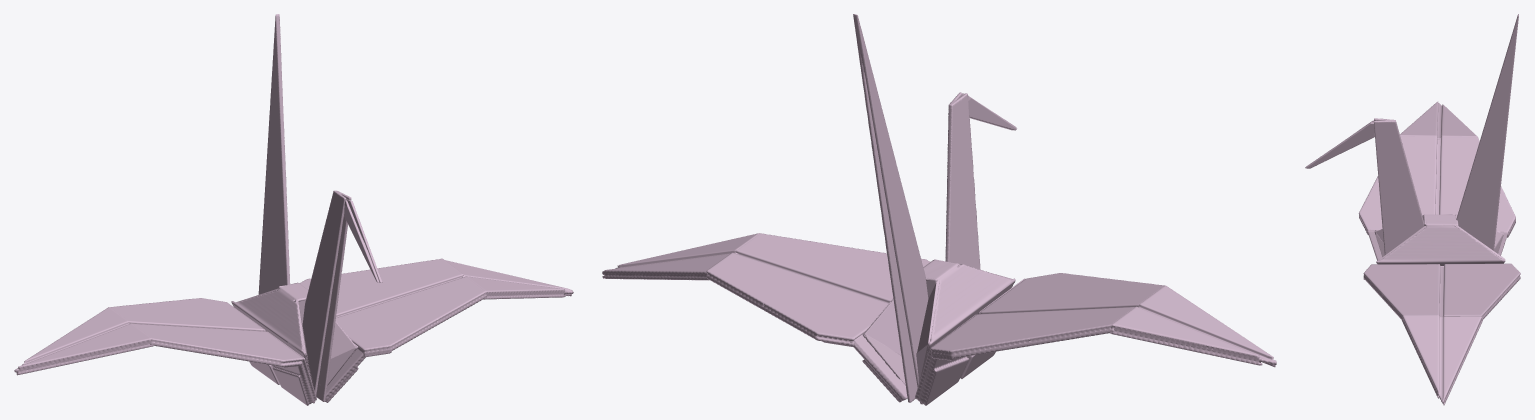
File: origami.glb
The picture shows the model from 3 angles, left to right: view 1: azimuth 30°, elevation 25°; view 2: azimuth 150°, elevation 25°; view 3: azimuth 270°, elevation 25°; orthographic projection. The views are drawn at different scales.
Parts seen in each view (by area): view 1: model_6, model_8, model_2, model_1, model_9, model_10, model_5, model_7, model_3, model_4, model_0; view 2: model_6, model_8, model_1, model_9, model_2, model_10, model_5, model_7, model_4, model_17, model_14, model_3; view 3: model_6, model_8, model_1, model_2, model_5, model_10, model_9, model_3, model_7.
Boxes of the visible parts, x1,y1,x2,y2 form: model_6: [299, 258, 486, 357]; model_8: [110, 298, 303, 367]; model_2: [302, 190, 351, 403]; model_1: [258, 14, 290, 294]; model_9: [14, 307, 153, 375]; model_10: [231, 282, 358, 380]; model_5: [445, 260, 573, 299]; model_7: [231, 305, 316, 405]; model_3: [344, 199, 382, 282]; model_4: [325, 349, 365, 402]; model_0: [298, 297, 355, 358]; model_6: [706, 233, 930, 346]; model_8: [930, 273, 1164, 360]; model_1: [853, 14, 928, 404]; model_9: [1110, 285, 1276, 367]; model_2: [945, 92, 980, 269]; model_10: [862, 260, 1015, 379]; model_5: [602, 233, 759, 280]; model_7: [915, 278, 1024, 405]; model_4: [850, 334, 907, 402]; model_17: [863, 300, 901, 355]; model_14: [917, 277, 939, 352]; model_3: [962, 93, 1016, 130]; model_6: [1363, 263, 1520, 320]; model_8: [1358, 136, 1515, 237]; model_1: [1456, 14, 1518, 250]; model_2: [1373, 118, 1423, 255]; model_5: [1402, 315, 1482, 405]; model_10: [1374, 214, 1505, 265]; model_9: [1400, 101, 1477, 139]; model_3: [1305, 120, 1374, 168]; model_7: [1367, 230, 1508, 260].
Bounding box in the file's own units: 2.68 × 1.51 × 0.9964.
18 materials, 18 textured.
